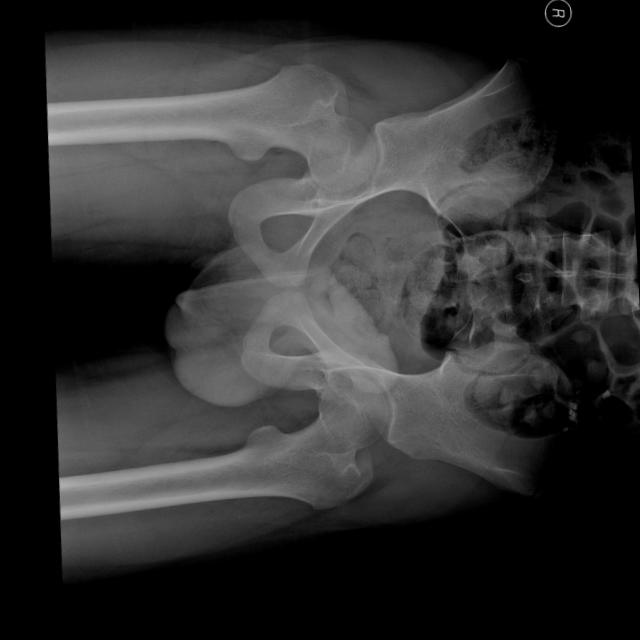normal-left: (179, 377, 386, 509)
normal-right: (144, 63, 376, 192)
